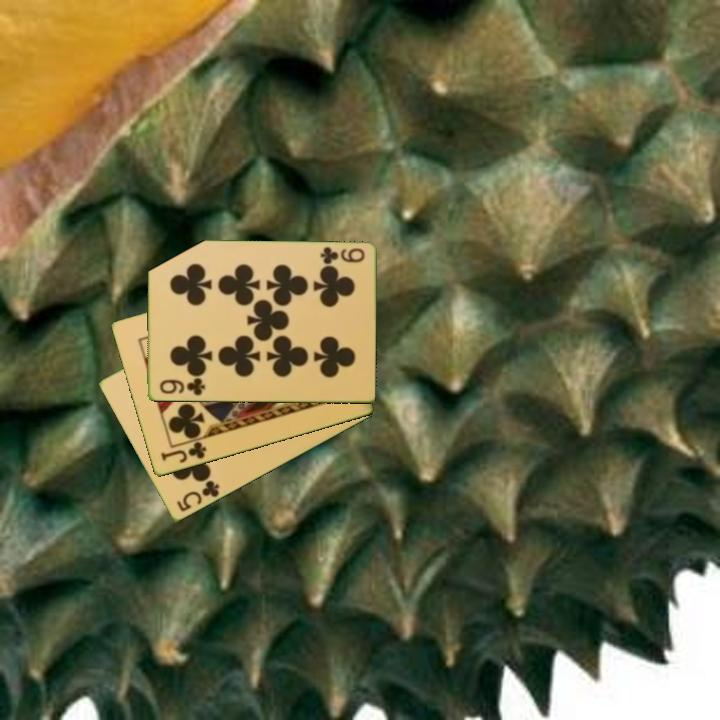5c: (173, 477, 222, 515)
9c: (316, 243, 367, 268), (156, 375, 208, 399)
Jc: (157, 438, 209, 466)
